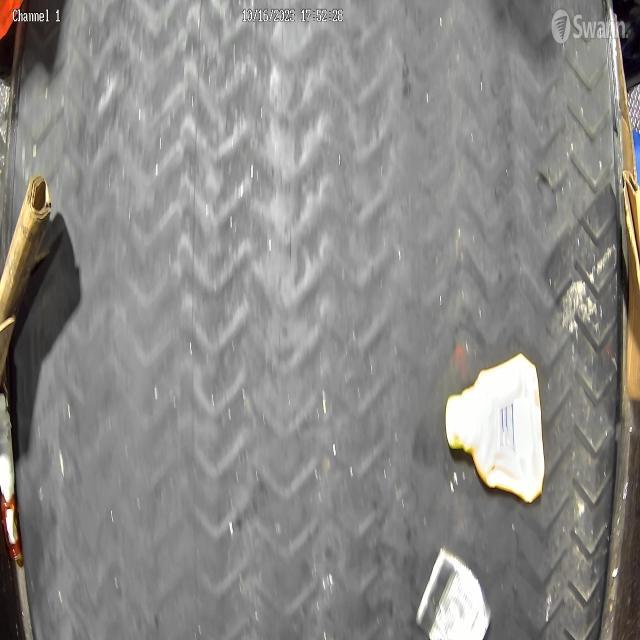can: (415, 548, 492, 640)
non_white_jug: (445, 352, 546, 504)
